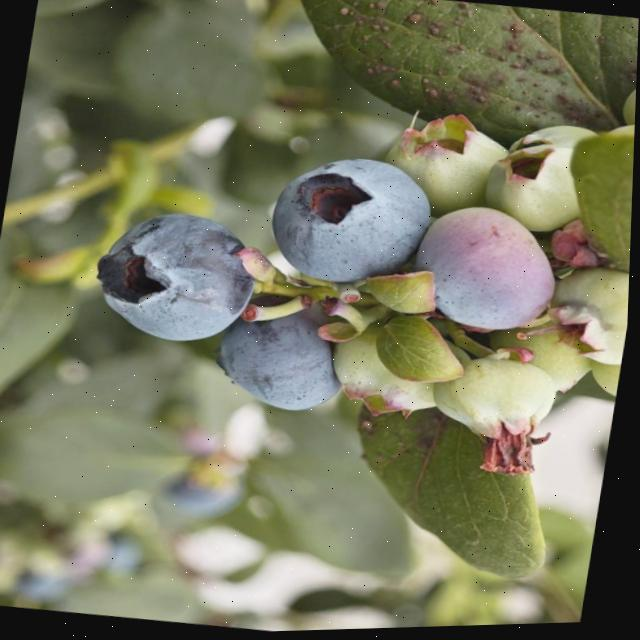RipeBlueBerry: (84, 198, 272, 354), (258, 144, 448, 298), (205, 297, 354, 420)
Semi-RipeBlueBerry: (404, 198, 571, 343)
UnripeBlueBerry: (374, 114, 519, 220), (323, 315, 461, 424), (427, 350, 563, 453), (476, 138, 599, 245)
